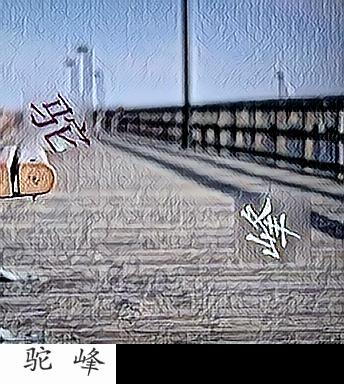character: (236, 194, 309, 262), (27, 90, 95, 156)
